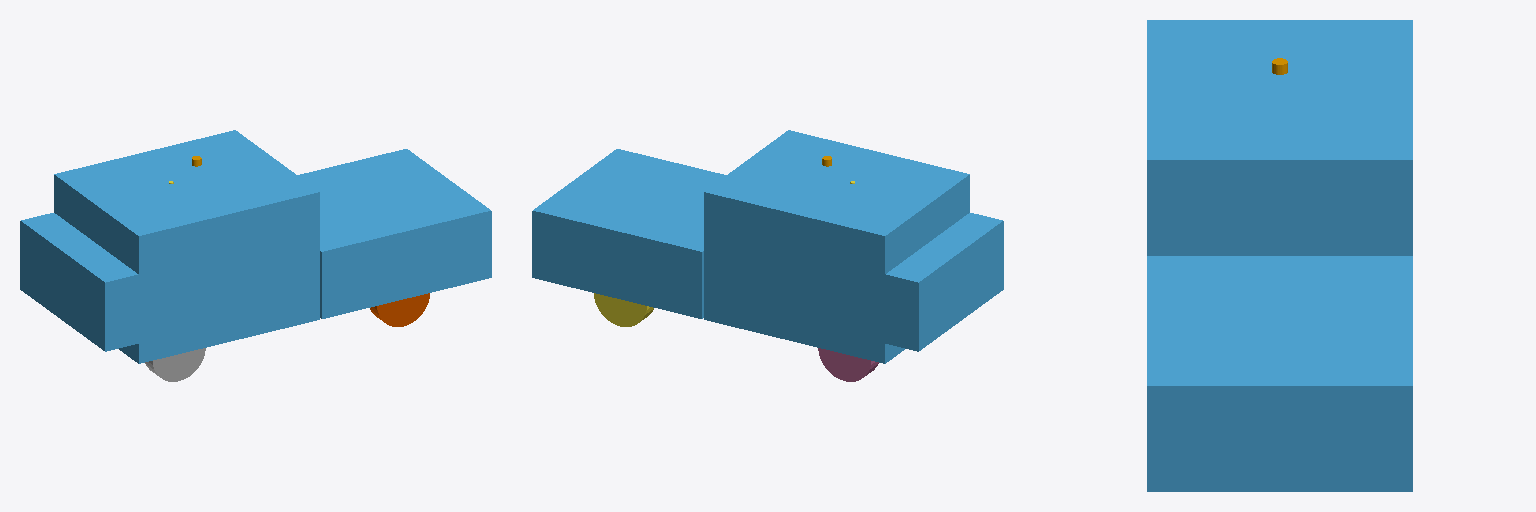
The robot description file, URDF, robot "vesta":
<?xml version="1.0" ?>
<robot name="vesta">
    <link name="base_link"/>

    <!-- Body: the same 3 stacked boxes LadaVesta.proto uses as its boundingObject
         (hood/cabin/trunk), so this matches the real sim collision geometry. -->
    <link name="body_link">
        <visual>
            <origin xyz="2.6775 0 0.29"/>
            <geometry><box size="2.0 1.73 0.76"/></geometry>
        </visual>
        <visual>
            <origin xyz="0.5875 0 0.63"/>
            <geometry><box size="2.14 1.73 1.44"/></geometry>
        </visual>
        <visual>
            <origin xyz="-0.1725 0 0.53"/>
            <geometry><box size="1.41 1.73 0.78"/></geometry>
        </visual>
    </link>
    <joint name="body_joint" type="fixed">
        <parent link="base_link"/>
        <child link="body_link"/>
    </joint>

    <!-- Wheels: LadaVesta.proto wheelbase=2.648 (rear axle at x=0, front at
         x=wheelbase), trackFront=trackRear=1.512 (+-0.756 either side of
         centerline), tireRadius=0.315, thickness=0.2. Wheel center z=-0.085 is
         an approximation (puts the tire's bottom at world ground level given
         the vehicle's root sits 0.4m up); the real proto's suspension travel
         isn't modeled here. Front wheels get a steering joint; rear don't. -->
    <link name="front_left_steer_link"/>
    <joint name="front_left_steer_joint" type="revolute">
        <parent link="base_link"/>
        <child link="front_left_steer_link"/>
        <origin xyz="2.648 0.756 -0.085"/>
        <axis xyz="0 0 1"/>
        <limit lower="-0.6" upper="0.6" effort="100" velocity="10"/>
    </joint>
    <link name="front_left_wheel_link">
        <visual>
            <origin rpy="1.5708 0 0"/>
            <geometry><cylinder radius="0.315" length="0.2"/></geometry>
        </visual>
    </link>
    <joint name="front_left_wheel_joint" type="continuous">
        <parent link="front_left_steer_link"/>
        <child link="front_left_wheel_link"/>
        <axis xyz="0 1 0"/>
    </joint>

    <link name="front_right_steer_link"/>
    <joint name="front_right_steer_joint" type="revolute">
        <parent link="base_link"/>
        <child link="front_right_steer_link"/>
        <origin xyz="2.648 -0.756 -0.085"/>
        <axis xyz="0 0 1"/>
        <limit lower="-0.6" upper="0.6" effort="100" velocity="10"/>
    </joint>
    <link name="front_right_wheel_link">
        <visual>
            <origin rpy="1.5708 0 0"/>
            <geometry><cylinder radius="0.315" length="0.2"/></geometry>
        </visual>
    </link>
    <joint name="front_right_wheel_joint" type="continuous">
        <parent link="front_right_steer_link"/>
        <child link="front_right_wheel_link"/>
        <axis xyz="0 1 0"/>
    </joint>

    <link name="rear_left_wheel_link">
        <visual>
            <origin rpy="1.5708 0 0"/>
            <geometry><cylinder radius="0.315" length="0.2"/></geometry>
        </visual>
    </link>
    <joint name="rear_left_wheel_joint" type="continuous">
        <parent link="base_link"/>
        <child link="rear_left_wheel_link"/>
        <origin xyz="0 0.756 -0.085"/>
        <axis xyz="0 1 0"/>
    </joint>

    <link name="rear_right_wheel_link">
        <visual>
            <origin rpy="1.5708 0 0"/>
            <geometry><cylinder radius="0.315" length="0.2"/></geometry>
        </visual>
    </link>
    <joint name="rear_right_wheel_joint" type="continuous">
        <parent link="base_link"/>
        <child link="rear_right_wheel_link"/>
        <origin xyz="0 -0.756 -0.085"/>
        <axis xyz="0 1 0"/>
    </joint>

    <!-- lidar VLP-16: 103.3mm diameter x 71.7mm cylinder, 1.87m above ground
         (1.47m above base_link, since base_link sits 0.4m above ground). -->
    <link name="lidar_link">
        <visual>
            <geometry>
                <cylinder radius="0.0517" length="0.0717"/>
            </geometry>
        </visual>
    </link>
    <joint name="lidar_joint" type="fixed">
        <parent link="base_link"/>
        <child link="lidar_link"/>
        <origin xyz="0.7 0 1.57" rpy="0 0 0"/>
    </joint>

    <!-- Continental radar-21 radar: ~32x90x70mm box, 1.05m above ground (0.65m
         above base_link), 1m forward of base_link, on the vehicle centerline. -->
    <link name="radar_link">
        <visual>
            <geometry>
                <box size="0.032 0.09 0.07"/>
            </geometry>
        </visual>
    </link>
    <joint name="radar_joint" type="fixed">
        <parent link="base_link"/>
        <child link="radar_link"/>
        <origin xyz="3.53 -0.06 0.35" rpy="0 0 0"/>
    </joint>

    <!-- Xsens MTi-710: ~57.4x42.8x23.5mm box, 0.5m above base_link. -->
    <link name="imu_link">
        <visual>
            <geometry>
                <box size="0.0574 0.0428 0.0235"/>
            </geometry>
        </visual>
    </link>
    <joint name="imu_joint" type="fixed">
        <parent link="base_link"/>
        <child link="imu_link"/>
        <origin xyz="-0.3 0 0.5" rpy="0 0 0"/>
    </joint>

    <!-- Generic GPS: small antenna puck, roof-mounted, clear of the lidar. -->
    <link name="gps_link">
        <visual>
            <geometry>
                <cylinder radius="0.025" length="0.015"/>
            </geometry>
        </visual>
    </link>
    <joint name="gps_joint" type="fixed">
        <parent link="base_link"/>
        <child link="gps_link"/>
        <!-- x measured in Webots: GPS world position minus robot root = 0.400 m (was 0.3) --><origin xyz="0.4 0 1.4" rpy="0 0 0"/>
    </joint>

    <!-- base_footprint: ground level under the rear axle. MEASURED in Webots: after the suspension settles base_link
         is 0.108 m above ground (ground plane fitted from stereo and VLP-16 ground returns agree within 1 cm);
         0.4 m is only the spawn drop height of the world file. -->
    <link name="base_footprint"/>
    <joint name="base_footprint_joint" type="fixed">
        <parent link="base_link"/>
        <child link="base_footprint"/>
        <origin xyz="0 0 -0.108" rpy="0 0 0"/>
    </joint>

    <!-- Stereo pair (Webots only so far): baseline 0.20 m, windshield mount (the original RGB camera is retained for compatibility). *_link are body axes
         (x forward); *_optical_frame is the pinhole frame (z forward, x right, y down) the images are stamped in. -->
    <link name="stereo_left_link"/>
    <joint name="stereo_left_joint" type="fixed">
        <parent link="base_link"/>
        <child link="stereo_left_link"/>
        <origin xyz="1.55 0.10 1.05" rpy="0 0 0"/>
    </joint>
    <link name="stereo_left_optical_frame"/>
    <joint name="stereo_left_optical_joint" type="fixed">
        <parent link="stereo_left_link"/>
        <child link="stereo_left_optical_frame"/>
        <origin xyz="0 0 0" rpy="-1.5707963267948966 0 -1.5707963267948966"/>
    </joint>
    <link name="stereo_right_link"/>
    <joint name="stereo_right_joint" type="fixed">
        <parent link="base_link"/>
        <child link="stereo_right_link"/>
        <origin xyz="1.55 -0.10 1.05" rpy="0 0 0"/>
    </joint>
    <link name="stereo_right_optical_frame"/>
    <joint name="stereo_right_optical_joint" type="fixed">
        <parent link="stereo_right_link"/>
        <child link="stereo_right_optical_frame"/>
        <origin xyz="0 0 0" rpy="-1.5707963267948966 0 -1.5707963267948966"/>
    </joint>

    <!-- Generic RGB camera: windshield-mounted, facing forward. -->
    <link name="camera_link">
        <visual>
            <geometry>
                <box size="0.04 0.03 0.03"/>
            </geometry>
        </visual>
    </link>
    <joint name="camera_joint" type="fixed">
        <parent link="base_link"/>
        <child link="camera_link"/>
        <origin xyz="1.55 0 1.05" rpy="0 0 0"/>
    </joint>

    <webots>
        <device reference="gps" type="GPS">
            <ros>
                <enabled>true</enabled>
                <alwaysOn>true</alwaysOn>
                <updateRate>10</updateRate>
                <topicName>/gps/fix</topicName>
                <frameName>gps_link</frameName>
            </ros>
        </device>
        <device reference="rgb_camera" type="Camera">
            <ros>
                <enabled>true</enabled>
                <alwaysOn>true</alwaysOn>
                <updateRate>30</updateRate>
                <topicName>/camera/image_raw</topicName>
                <frameName>camera_link</frameName>
            </ros>
        </device>
        <device reference="stereo_left_camera" type="Camera">
            <ros>
                <enabled>true</enabled>
                <alwaysOn>true</alwaysOn>
                <updateRate>30</updateRate>
                <topicName>/stereo_raw/left</topicName>
                <frameName>stereo_left_optical_frame</frameName>
            </ros>
        </device>
        <device reference="stereo_right_camera" type="Camera">
            <ros>
                <enabled>true</enabled>
                <alwaysOn>true</alwaysOn>
                <updateRate>30</updateRate>
                <topicName>/stereo_raw/right</topicName>
                <frameName>stereo_right_optical_frame</frameName>
            </ros>
        </device>

        <plugin type="webots_ros2_driver::Ros2IMU">
            <enabled>true</enabled>
            <alwaysOn>true</alwaysOn>
            <updateRate>100</updateRate>
            <topicName>/vesta/imu/data</topicName>
            <frameName>imu_link</frameName>
            <inertialUnitName>imu</inertialUnitName>
            <gyroName>imu_gyro</gyroName>
            <accelerometerName>imu_accelerometer</accelerometerName>
        </plugin>
        <plugin type="webots_ros2_suv.vesta_driver.VestaDriver" />
    </webots>
</robot>

--- Facts derived from the render (not from the file) ---
The picture shows the robot from 3 angles, left to right: view 1: azimuth 30°, elevation 25°; view 2: azimuth 150°, elevation 25°; view 3: azimuth 270°, elevation 25°; orthographic projection.
Robot: vesta — 18 links, 17 joints (2 revolute, 4 continuous, 11 fixed); root link base_link; default pose: all joints at 0.
Links seen in each view (by area): view 1: body_link, rear_right_wheel_link, front_right_wheel_link; view 2: body_link, rear_left_wheel_link, front_left_wheel_link; view 3: body_link.
Link boxes in pixels (x1=…): body_link: x1=20, y1=130, x2=491, y2=363; rear_right_wheel_link: x1=145, y1=348, x2=205, y2=381; front_right_wheel_link: x1=370, y1=293, x2=429, y2=326; body_link: x1=532, y1=130, x2=1003, y2=363; rear_left_wheel_link: x1=818, y1=348, x2=878, y2=381; front_left_wheel_link: x1=594, y1=293, x2=653, y2=326; body_link: x1=1147, y1=20, x2=1412, y2=491.
Bounding box of the posed robot: 4.55 × 1.73 × 2.01 m (x, y, z).
Geometry: primitives only (box / cylinder / sphere), no mesh files.
